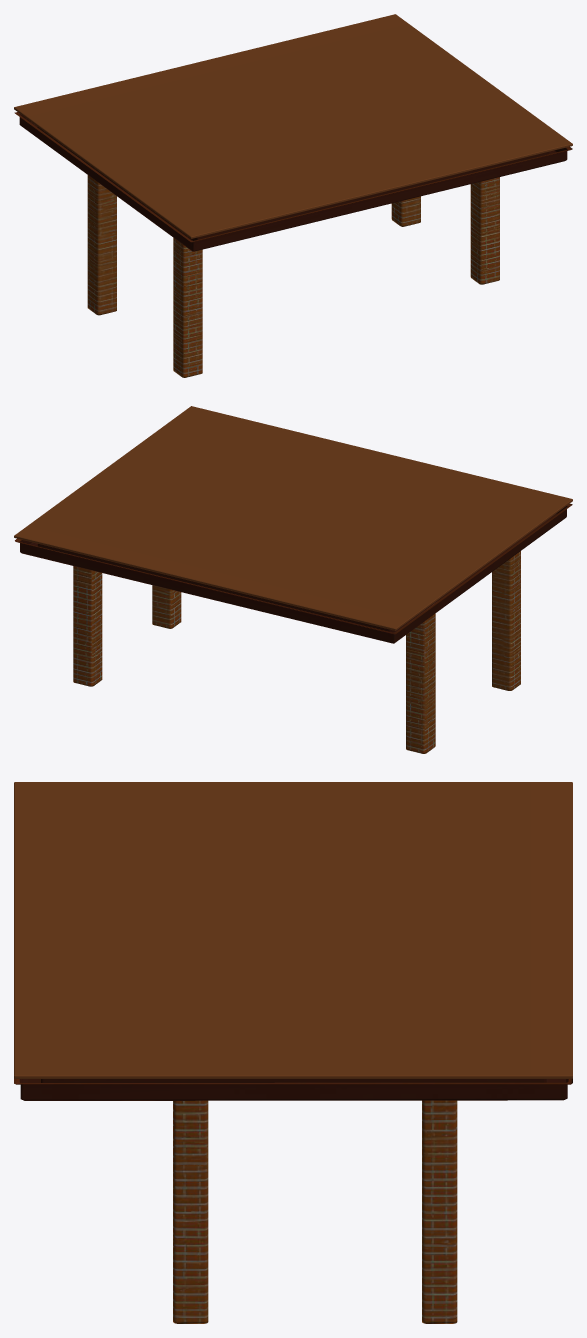
Rendered from brick-carport-roof-repaired.glb.
3 views of the same model, one above another, from view 1: azimuth 30°, elevation 25°; view 2: azimuth 150°, elevation 25°; view 3: azimuth 270°, elevation 25° (orthographic). The views are drawn at different scales.
Parts seen in each view (by area): view 1: tripo_node_c0dfd1e4-4c21-4f2b-bbc2-cbcb8d825253; view 2: tripo_node_c0dfd1e4-4c21-4f2b-bbc2-cbcb8d825253; view 3: tripo_node_c0dfd1e4-4c21-4f2b-bbc2-cbcb8d825253.
Part boxes in pixels (x1,y1,x2,y2): tripo_node_c0dfd1e4-4c21-4f2b-bbc2-cbcb8d825253: [14, 14, 572, 377]; tripo_node_c0dfd1e4-4c21-4f2b-bbc2-cbcb8d825253: [14, 406, 572, 753]; tripo_node_c0dfd1e4-4c21-4f2b-bbc2-cbcb8d825253: [14, 782, 572, 1323].
Size of the model in its own units: 1 by 0.4207 by 0.8043.
Materials: 1 (1 with a texture image).
